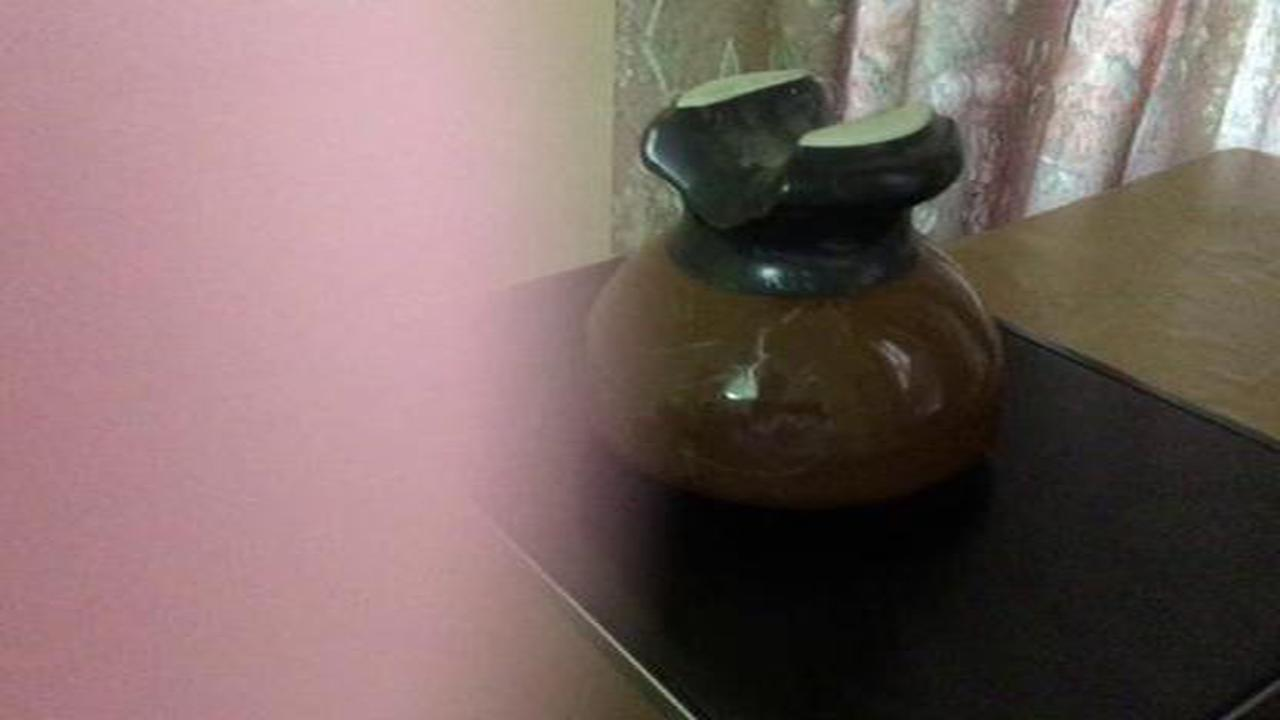insulator_pin: (564, 51, 1028, 528)
